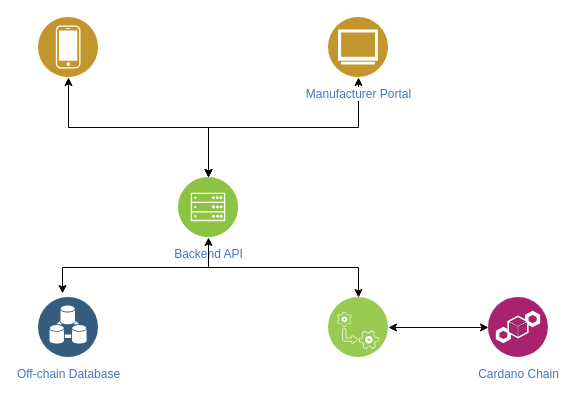
The diagram is 576 pixels wide and 413 high, and some of its shapes have lost their labels. The shapes that lost their labels are listed below. From the top down, each one's centre as x and y in pixels, then its label:
At point 68,47: "Mobile App".
At point 358,327: "API Node Service (Blockfrost/Koios)".
